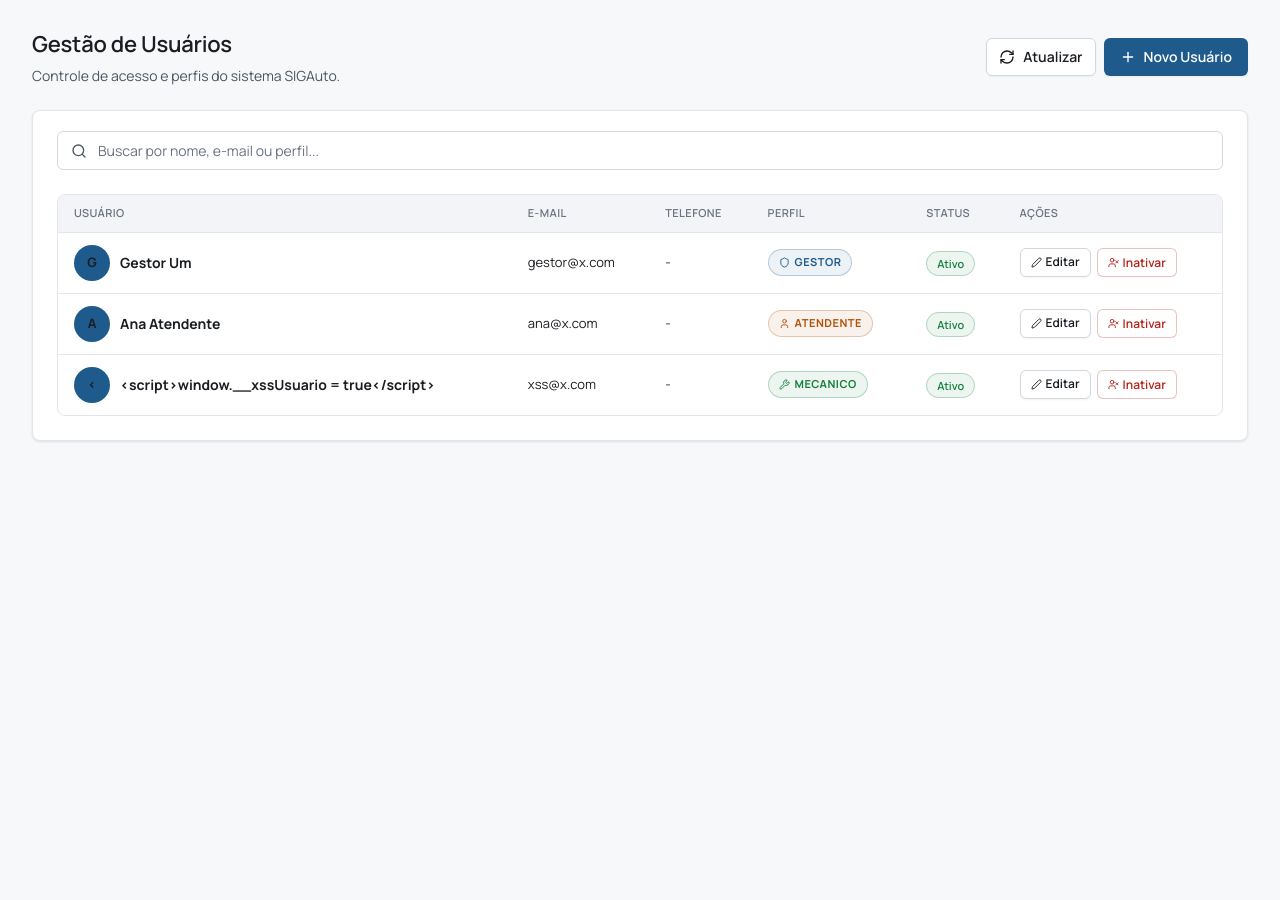
Test: Usuarios — validação do formulário na tela › deve_barrar_senha_vazia_sem_chamar_a_api
Expected: the text "Gestor Um" is shown, [120,252,192,273]
Click the button "Novo Usuário".
click(1176, 57)  # box [1104,38,1248,76]
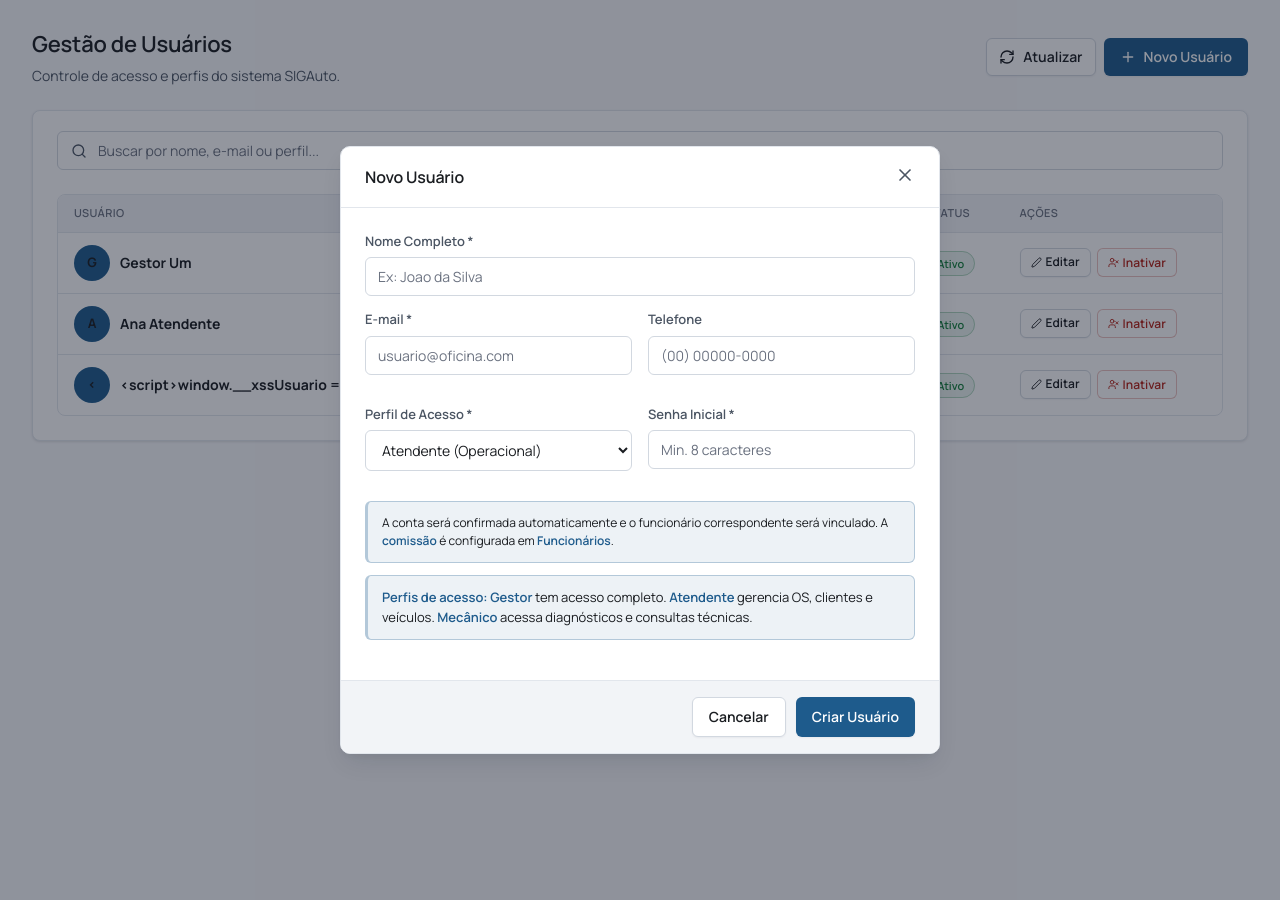
Type "Novo Usuario" into the field with placeholder "Ex: Joao da Silva".
click(640, 277); type("Novo Usuario")  # box [365,258,915,296]
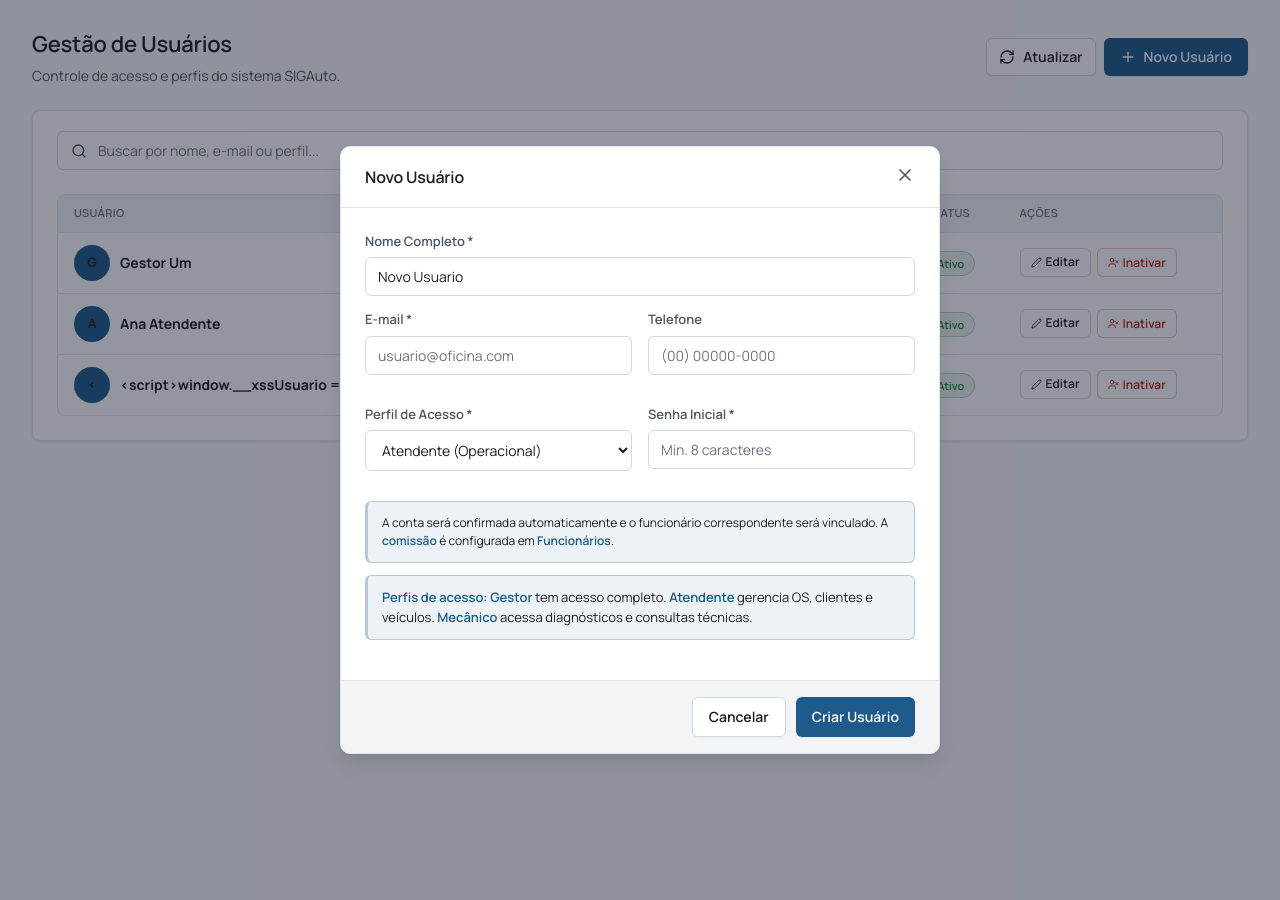
Type "novo@oficina.com" into the field with placeholder "usuario@oficina.com".
click(498, 356); type("novo@oficina.com")  # box [365,336,632,375]
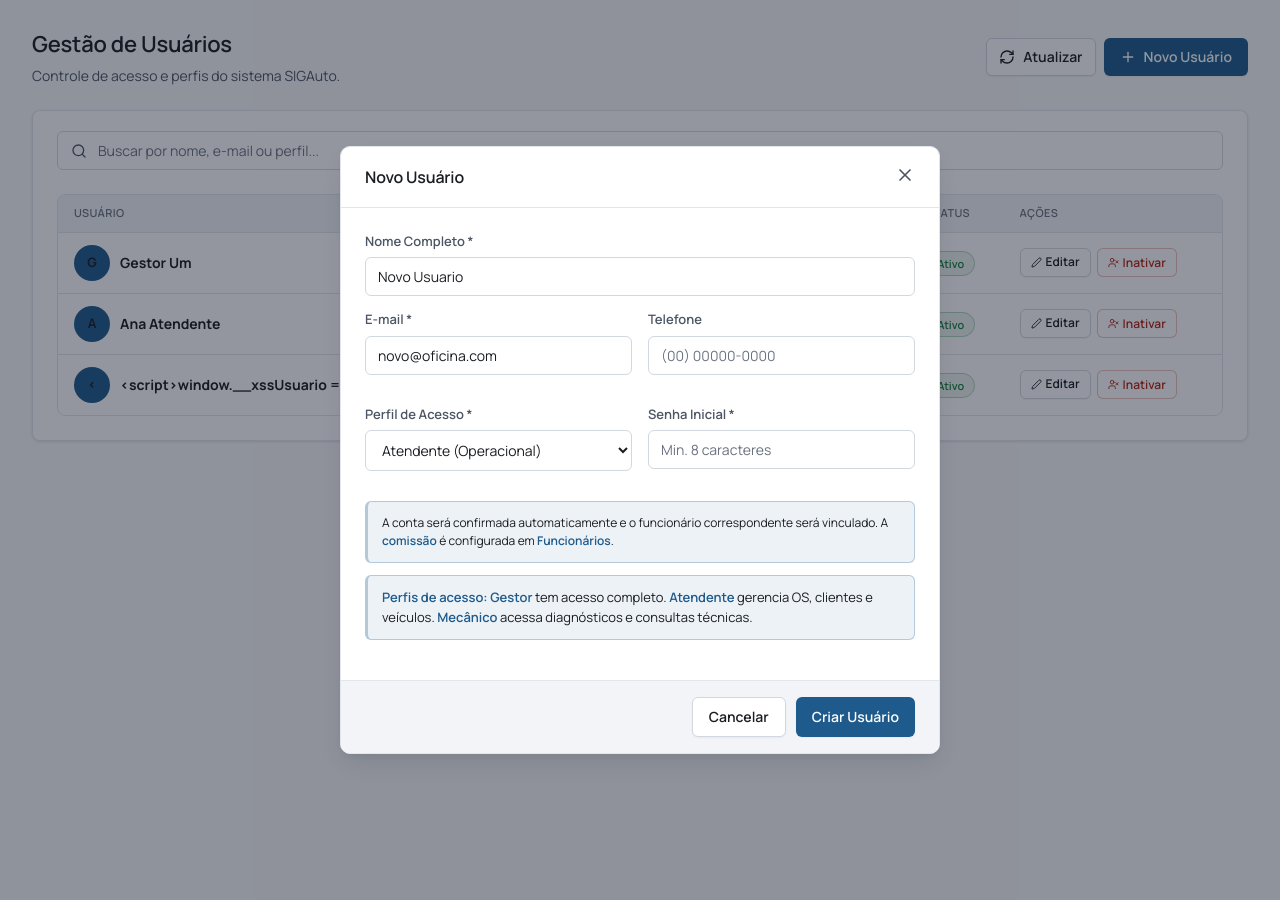
Submit the form named "Criar Usuário", box [341,208,939,753]
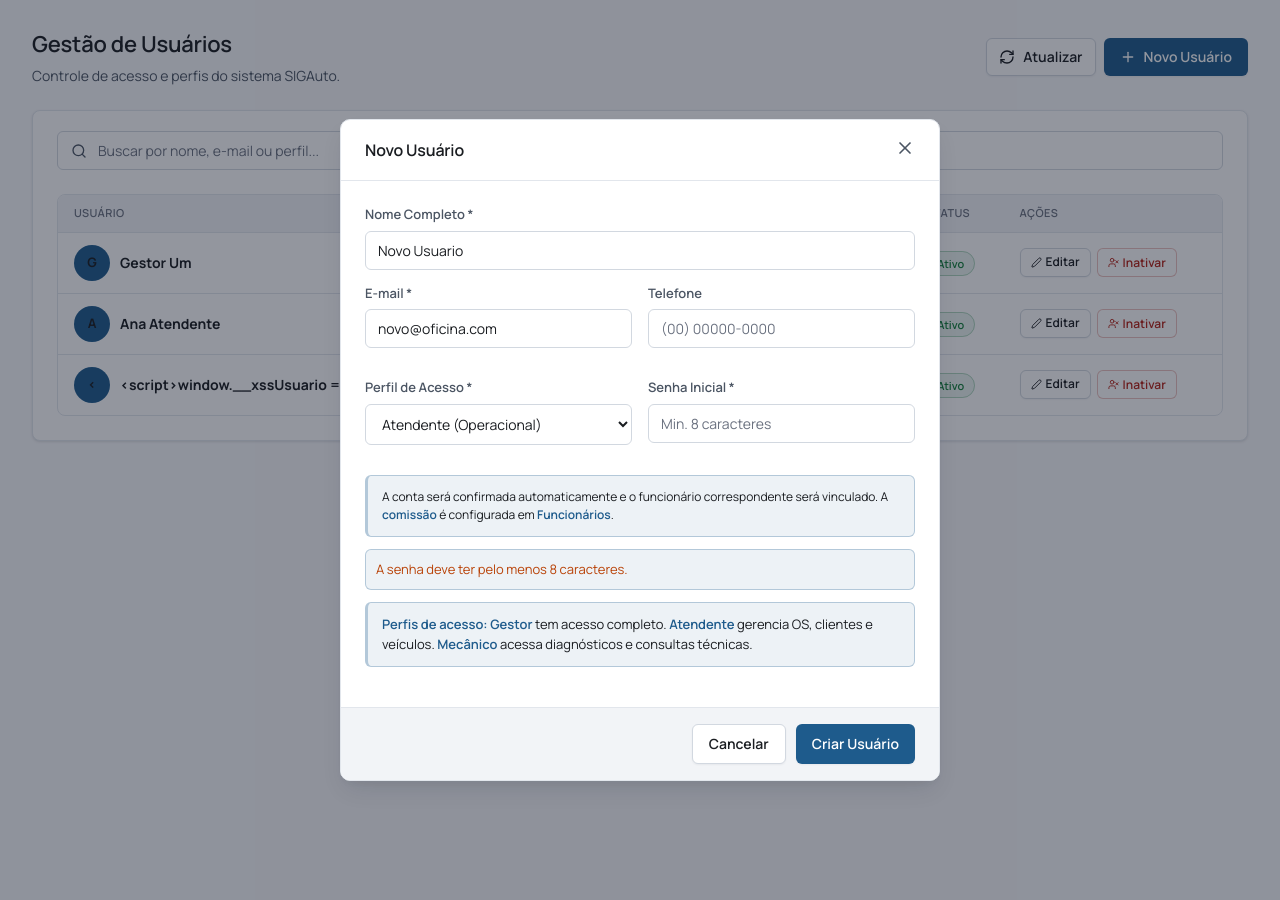
Now the text "A senha deve ter pelo menos 8 caracteres." is shown, box [365,549,915,590]
